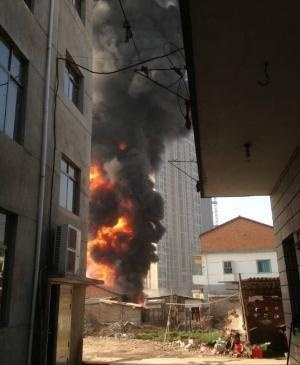fire: (85, 216, 128, 284), (87, 163, 102, 189)
